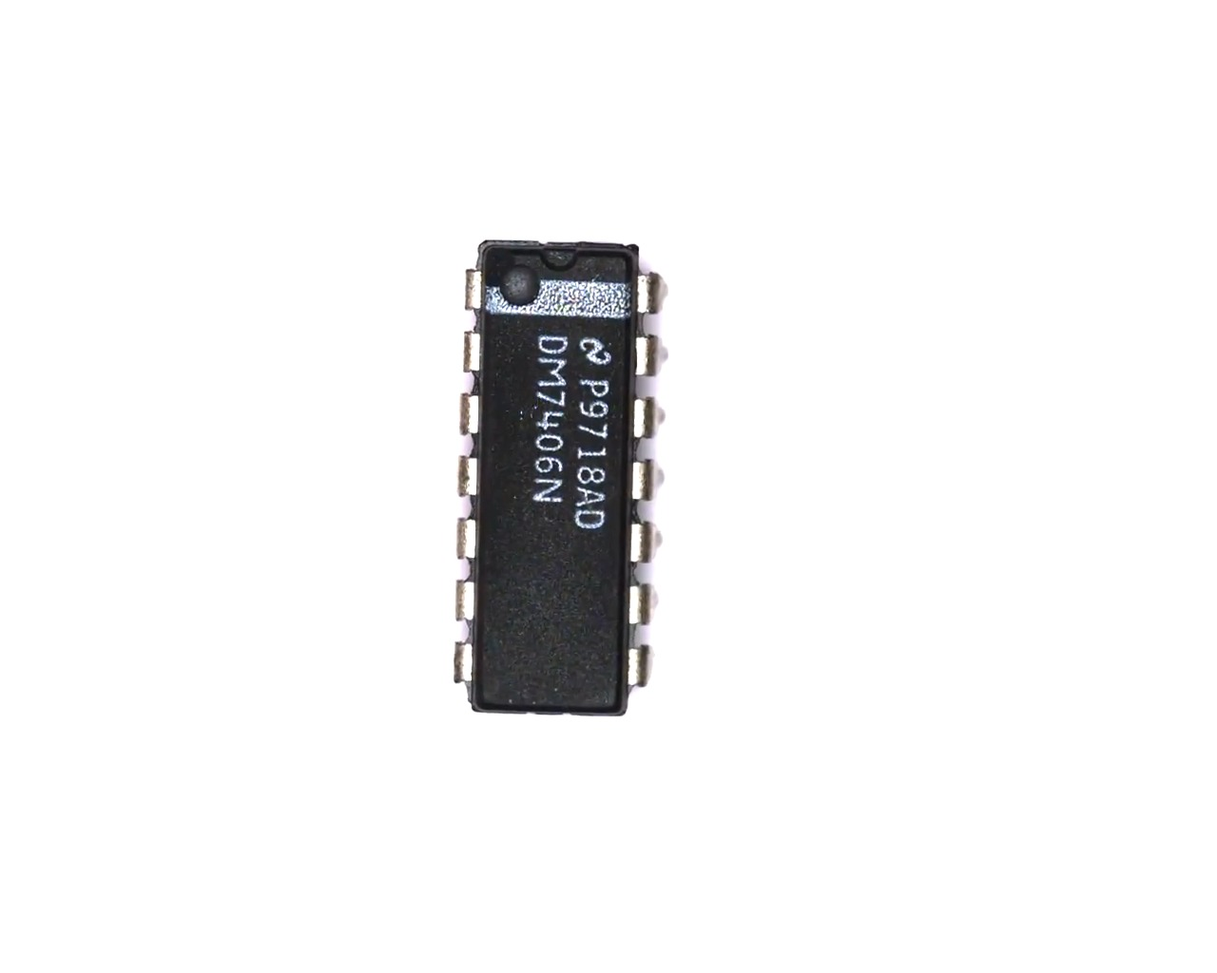IC: (440, 234, 676, 731)
notch: (534, 232, 584, 280)
